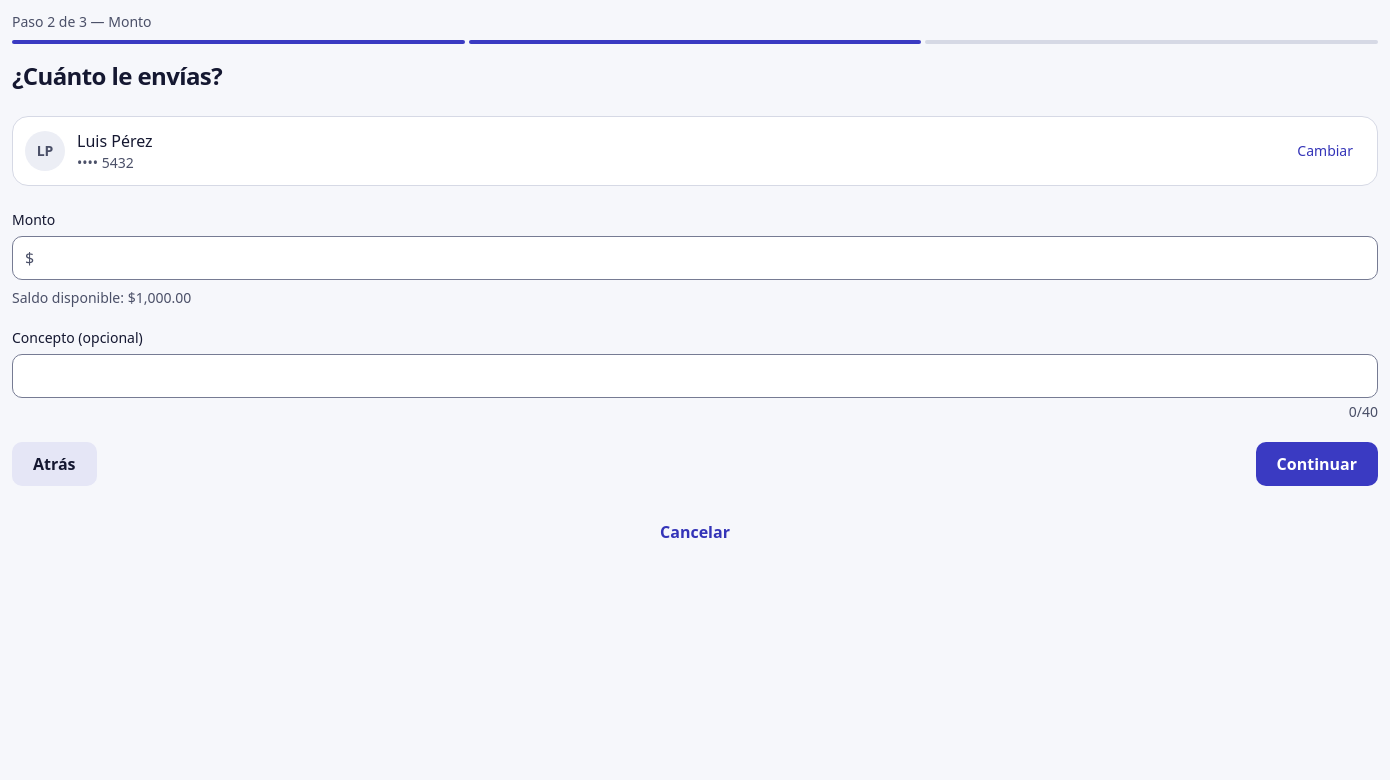
Test: [TC-COMP-11] Amount step › [UIR-TX-12][UIR-TX-13][AC-TX-02] BR-01 only on Continuar; focus goes to the amount
In the field labelled "Monto": (704, 258) [42,238,1365,278], type "0"
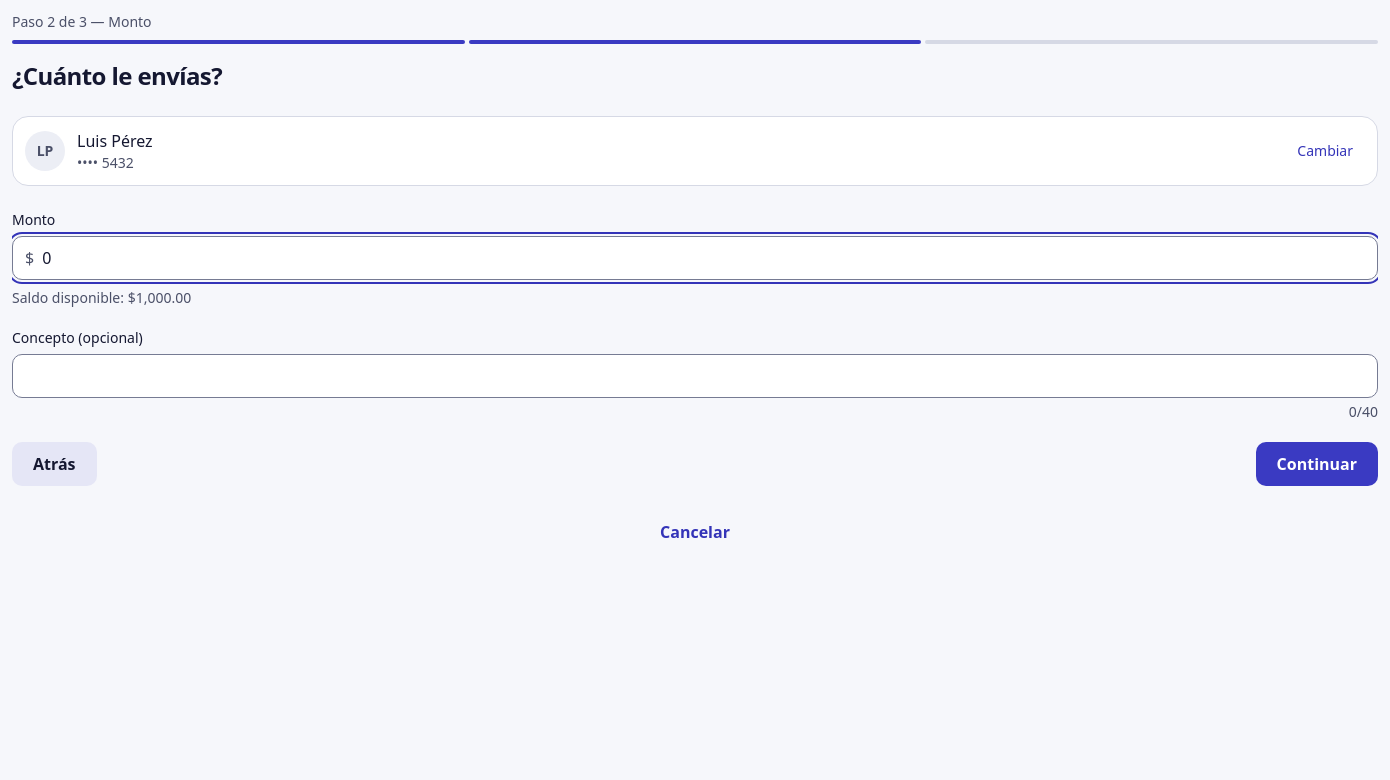
Expected: the text "Ingresa un monto mayor a $0.00." is not shown
Click the heading "¿Cuánto le envías?": (117, 76) [12,59,222,92]
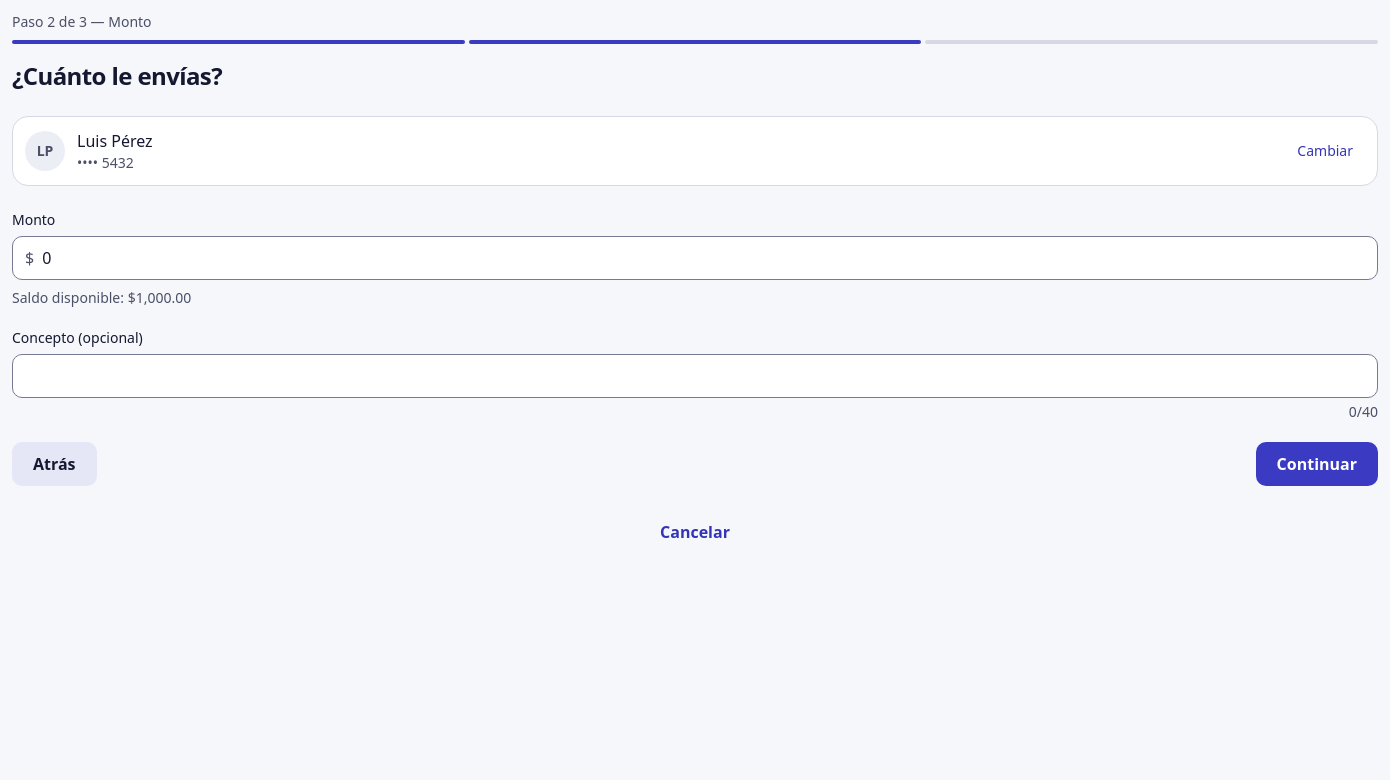
Click the button "Continuar": (1317, 464) [1256,442,1378,486]
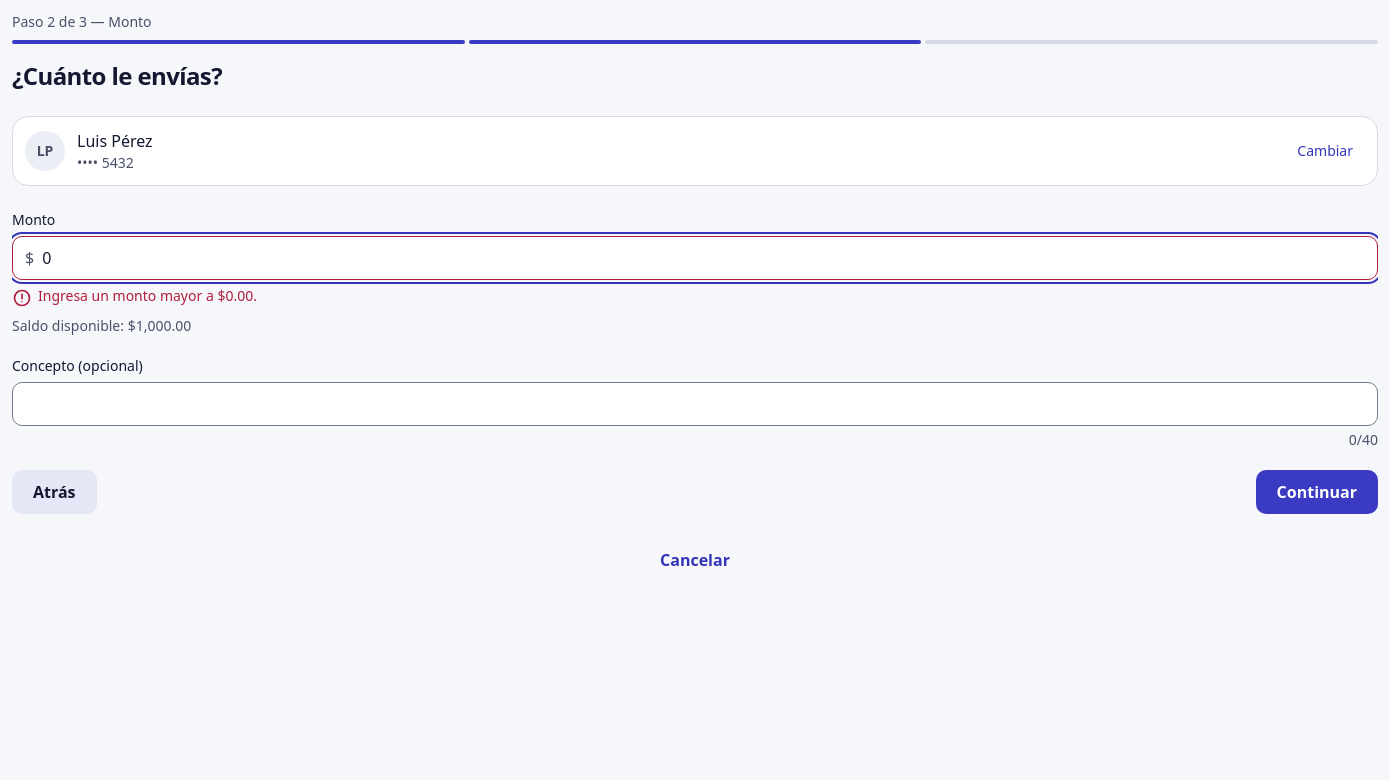
Expected: the text "Ingresa un monto mayor a $0.00." is shown, [38,286,257,306]
